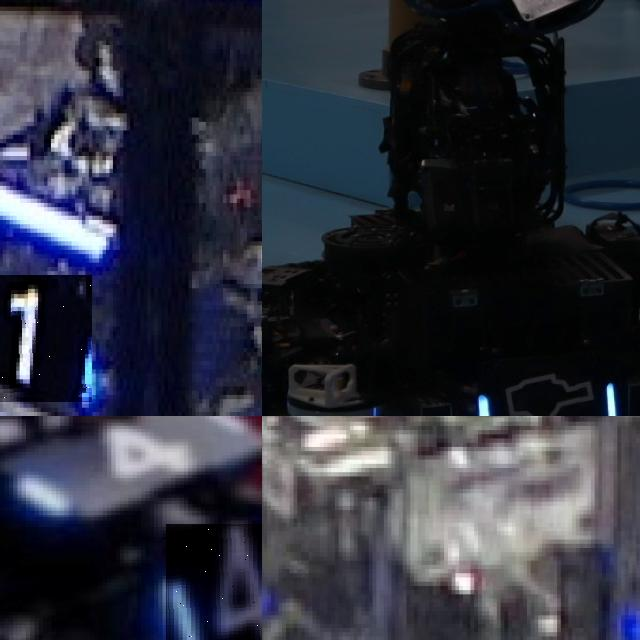B1: (0, 275, 92, 403)
B4: (4, 416, 260, 517), (166, 524, 262, 640)
Bs: (473, 370, 624, 416)
